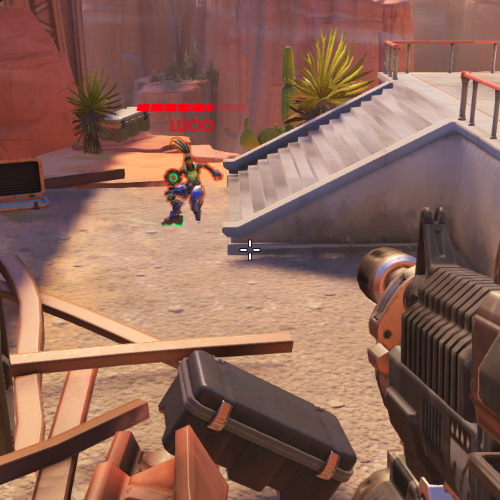hpbar: (136, 103, 247, 112)
